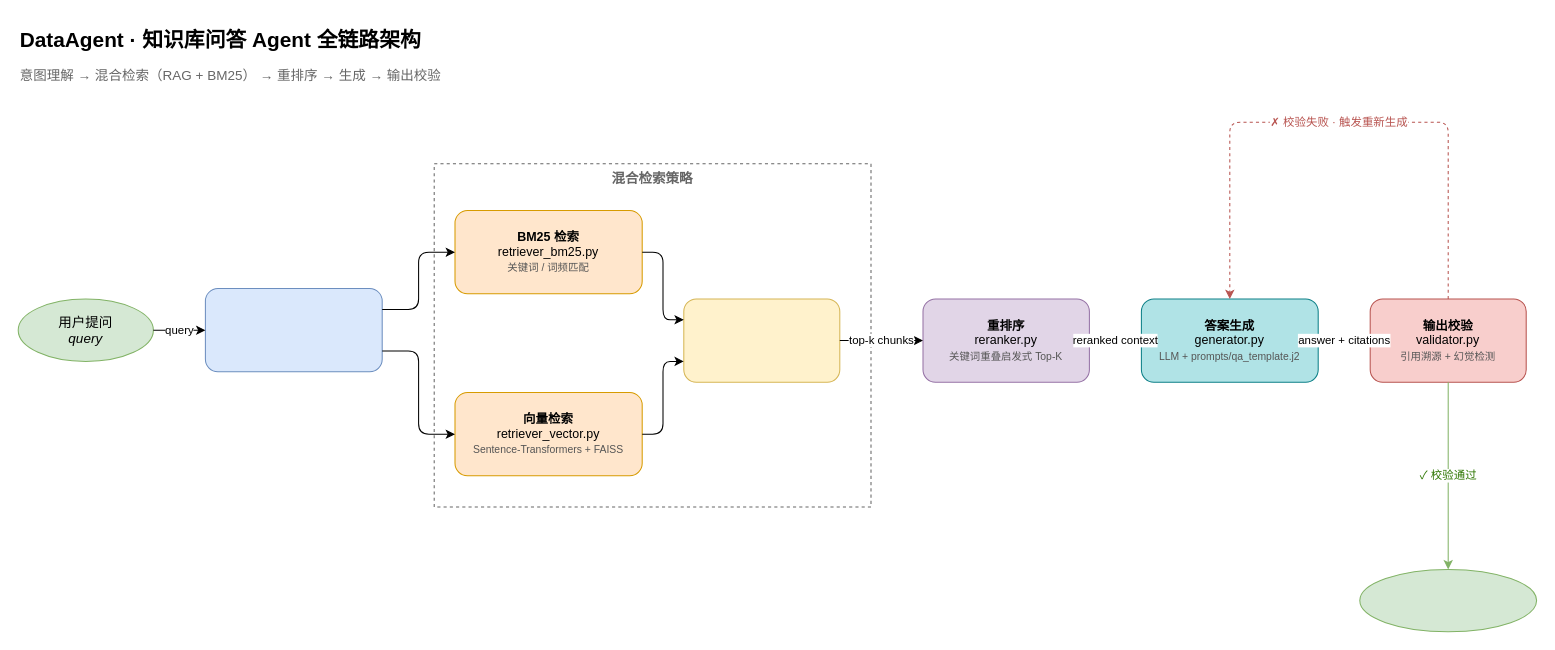
The diagram is 1555 pixels wide and 650 high, and some of its shapes have lost their labels. The centre of each missing label's shape, as x and y in pixels:
"RRF 融合 hybrid_retriever.py Reciprocal Rank Fusion" goes at (x=761, y=340).
"带引用的答案 answer + citations" goes at (x=1448, y=600).
"意图理解 intent.py 规则分类：知识问答 / 闲聊" goes at (x=293, y=330).
